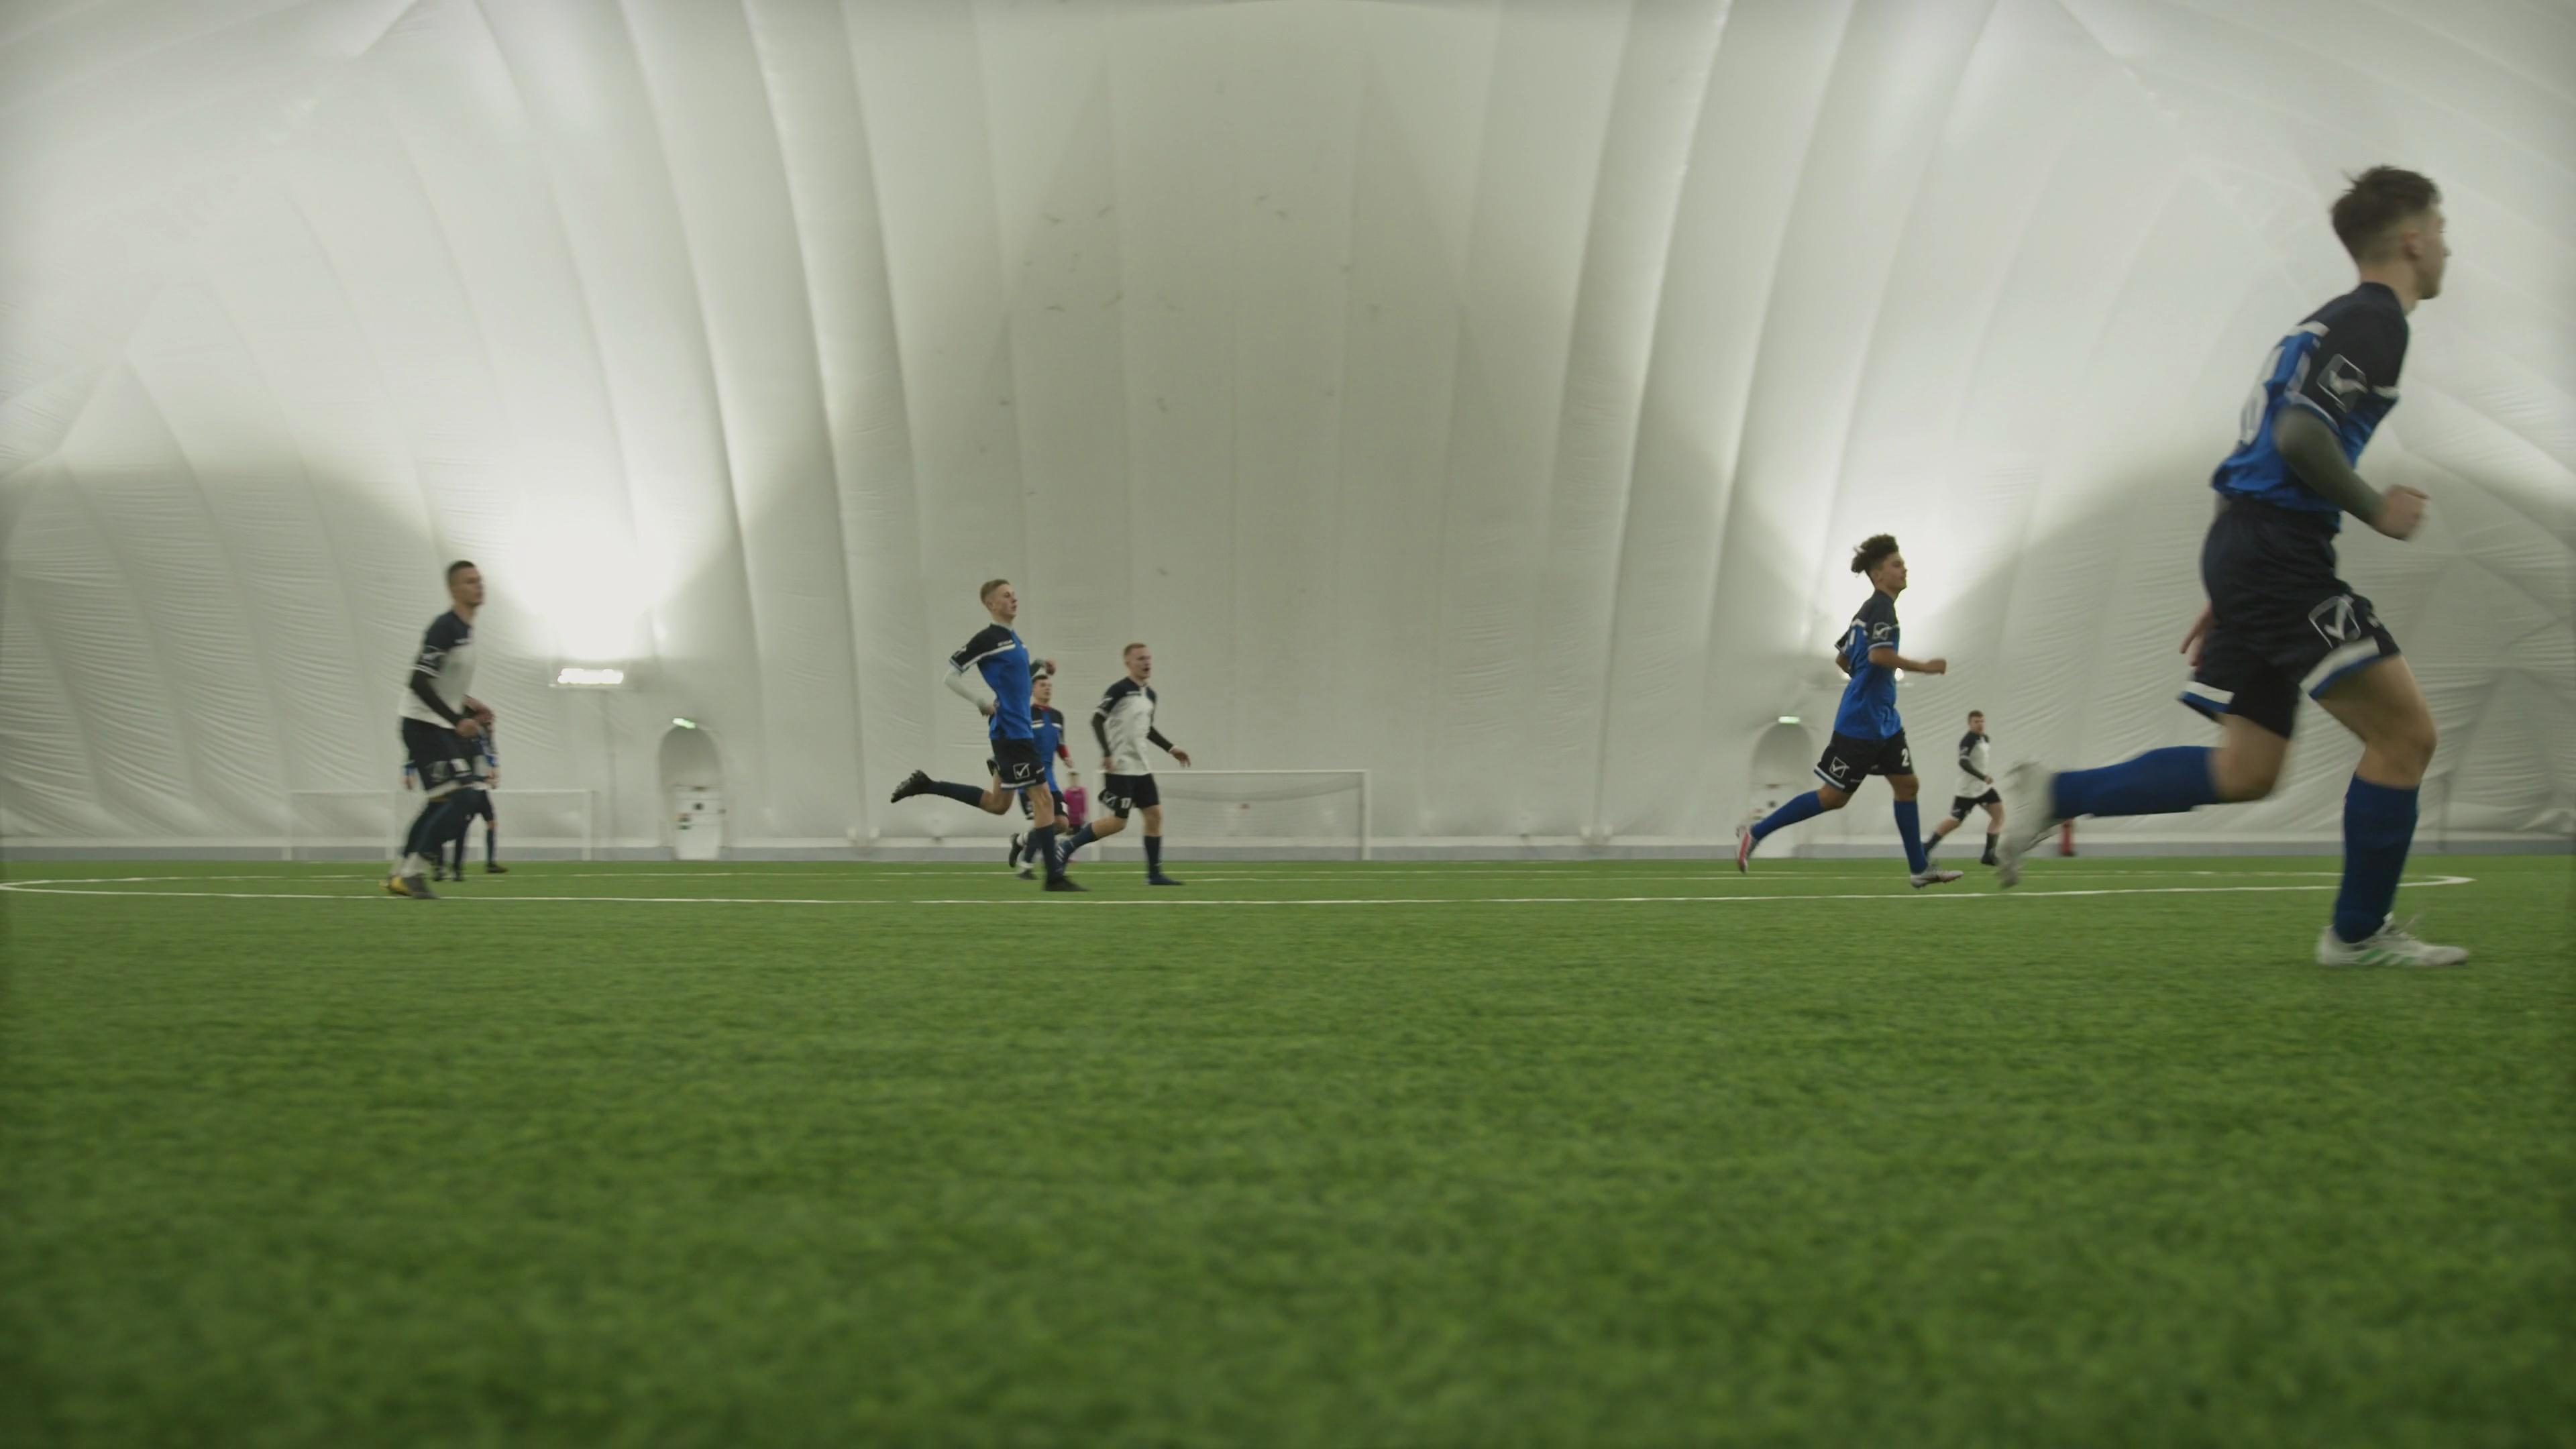team1: (1959, 165, 2472, 968), (1736, 529, 1950, 886), (1079, 637, 1192, 888), (950, 577, 1063, 824), (1023, 678, 1074, 787)
team2: (1012, 644, 1192, 893), (389, 561, 497, 893), (1923, 708, 2010, 886)
